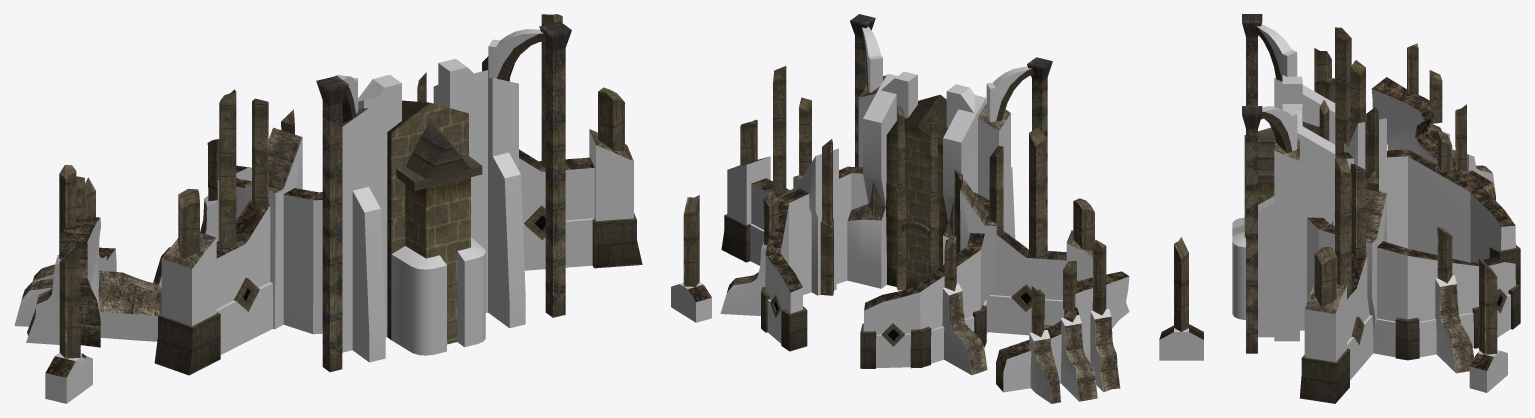
3 renders of one model, left to right at view 1: azimuth 30°, elevation 25°; view 2: azimuth 150°, elevation 25°; view 3: azimuth 270°, elevation 25°, orthographic. The views are drawn at different scales.
Visible parts, largest first — view 1: Ruins_01; view 2: Ruins_01; view 3: Ruins_01.
Part boxes in pixels (<box>): Ruins_01: <box>14,14,642,403</box>; Ruins_01: <box>671,14,1203,403</box>; Ruins_01: <box>1232,14,1520,403</box>.
Bounding box in the file's own units: 2414 × 1193 × 1100.
